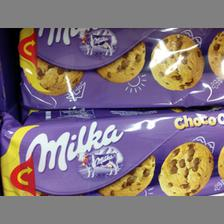Schokolade: (1, 111, 223, 195), (20, 27, 224, 109)
